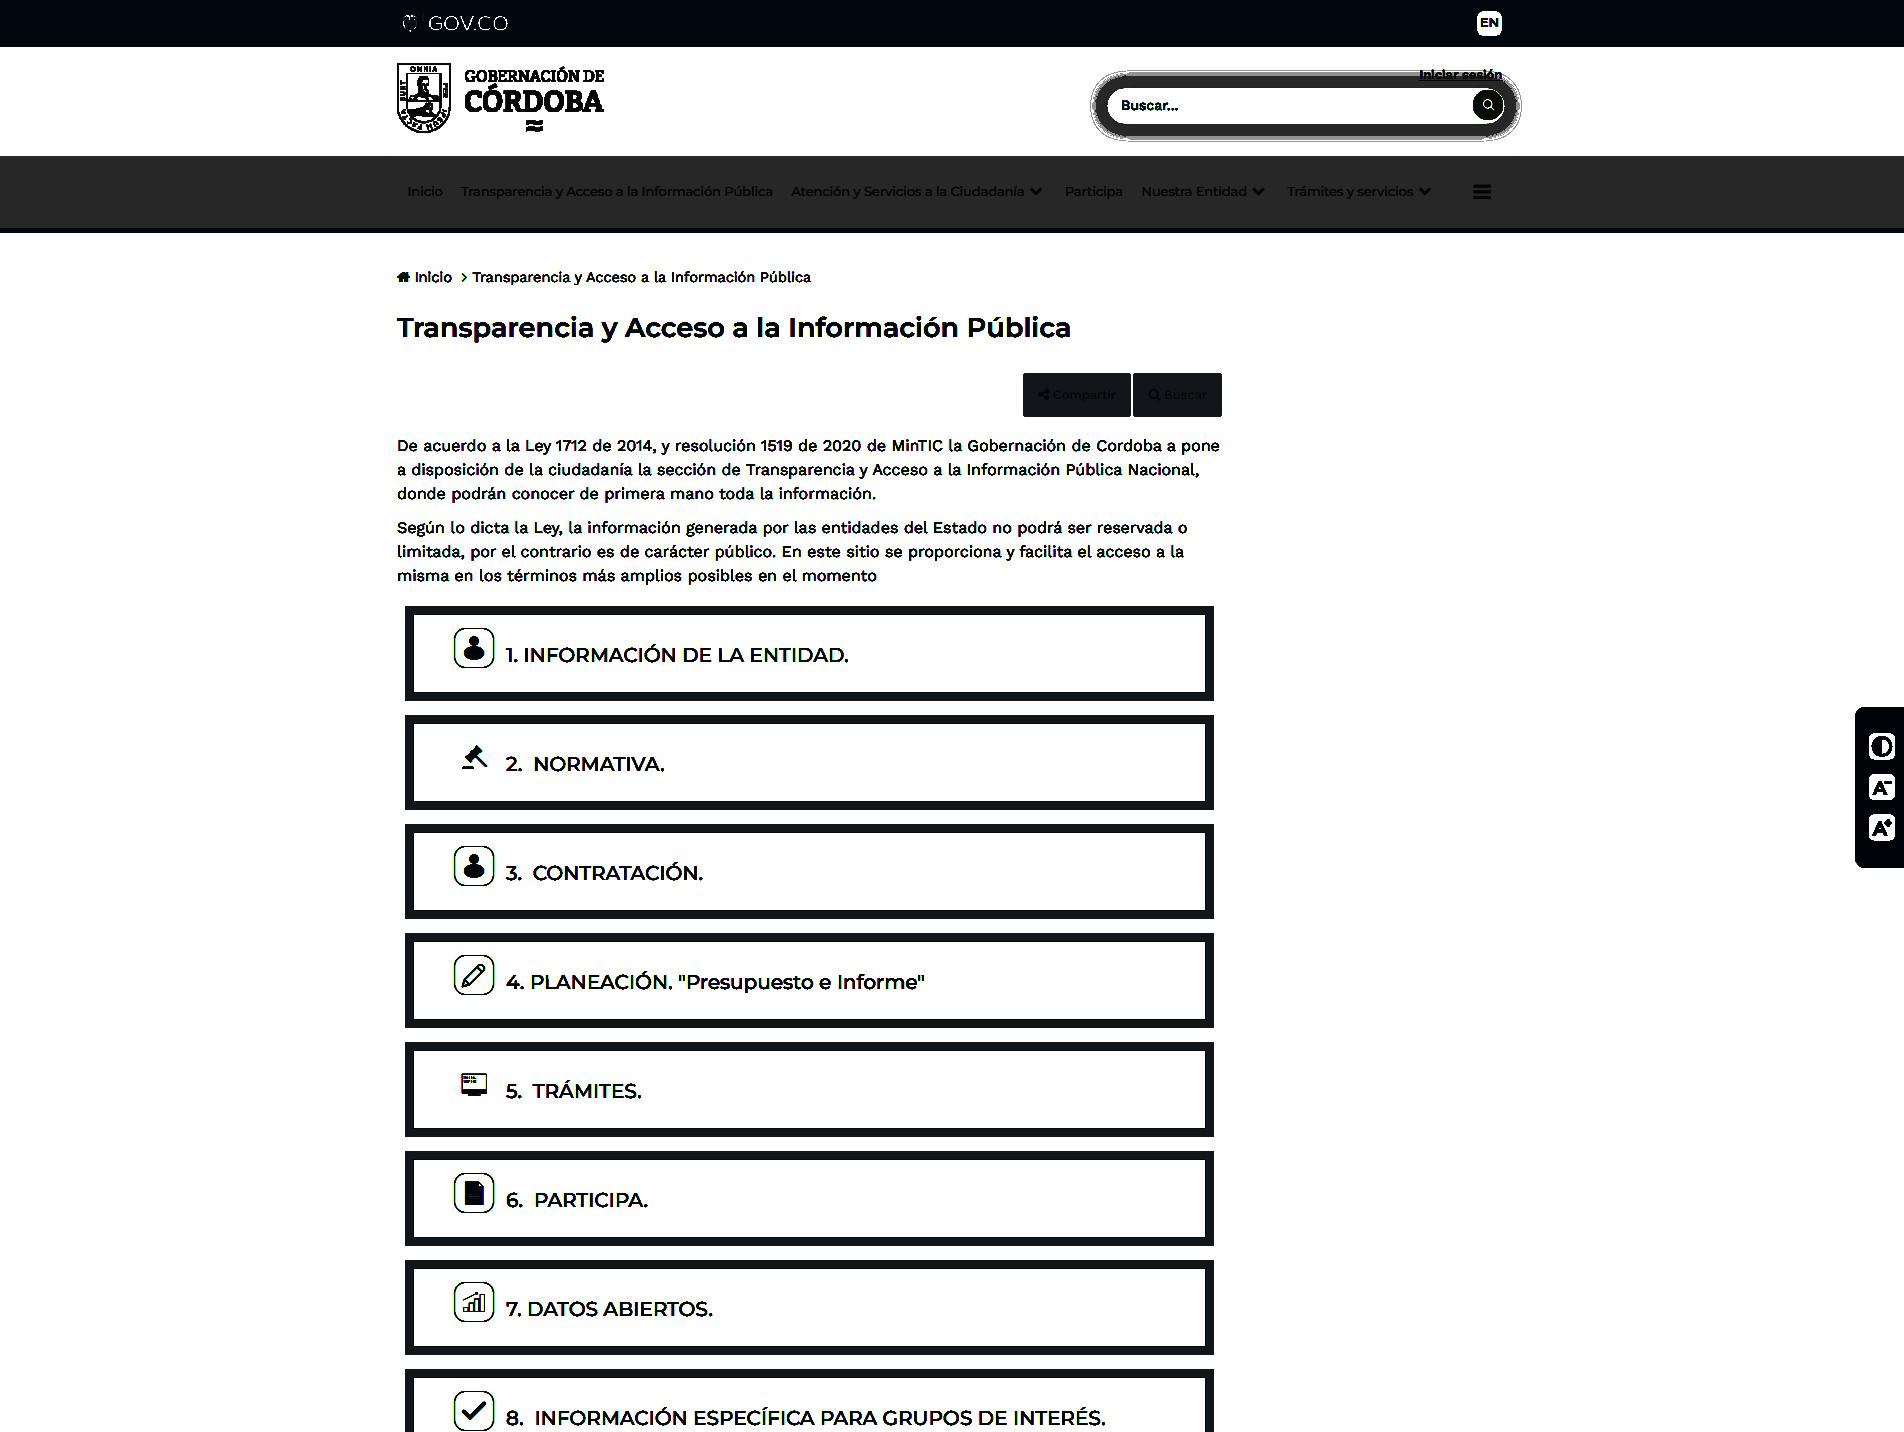barra accesibilidad: (1852, 702, 1904, 872)
barra govco: (396, 0, 1508, 49)
btn atencion ciudadano: (786, 181, 1043, 202)
btn buscador: (1104, 84, 1505, 128), (1472, 88, 1503, 122), (1141, 385, 1163, 403)
btn entidad: (520, 641, 851, 670), (1136, 181, 1269, 201)
btn idiomas: (1475, 7, 1503, 37)
btn inicio: (402, 181, 454, 202)
btn inicio sesion: (1417, 69, 1504, 84)
btn normatividad: (528, 750, 667, 779)
btn participa: (531, 1186, 653, 1214), (1063, 181, 1126, 202)
btn tramites: (528, 1078, 645, 1103), (1283, 180, 1434, 201)
btn transpariencia: (391, 311, 1080, 347), (469, 267, 816, 290), (458, 181, 777, 204)
logogovco: (400, 9, 511, 37)
menu principal: (398, 152, 1503, 218)
